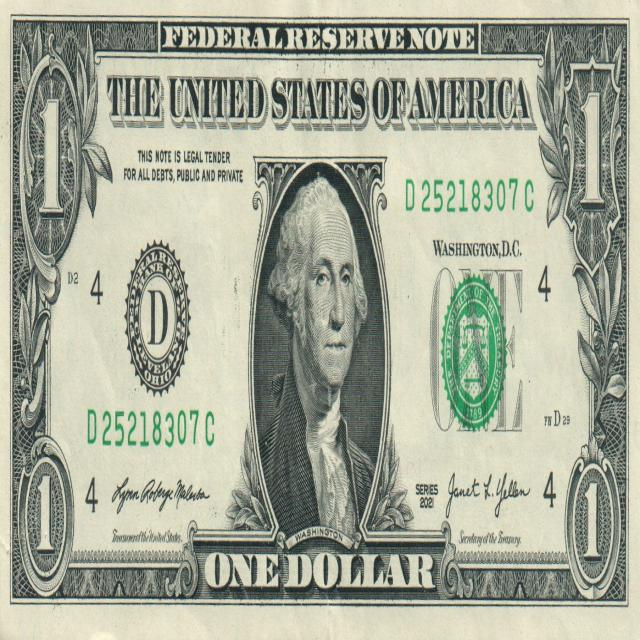SerialNumber: (88, 410, 214, 447), (406, 178, 533, 213)
